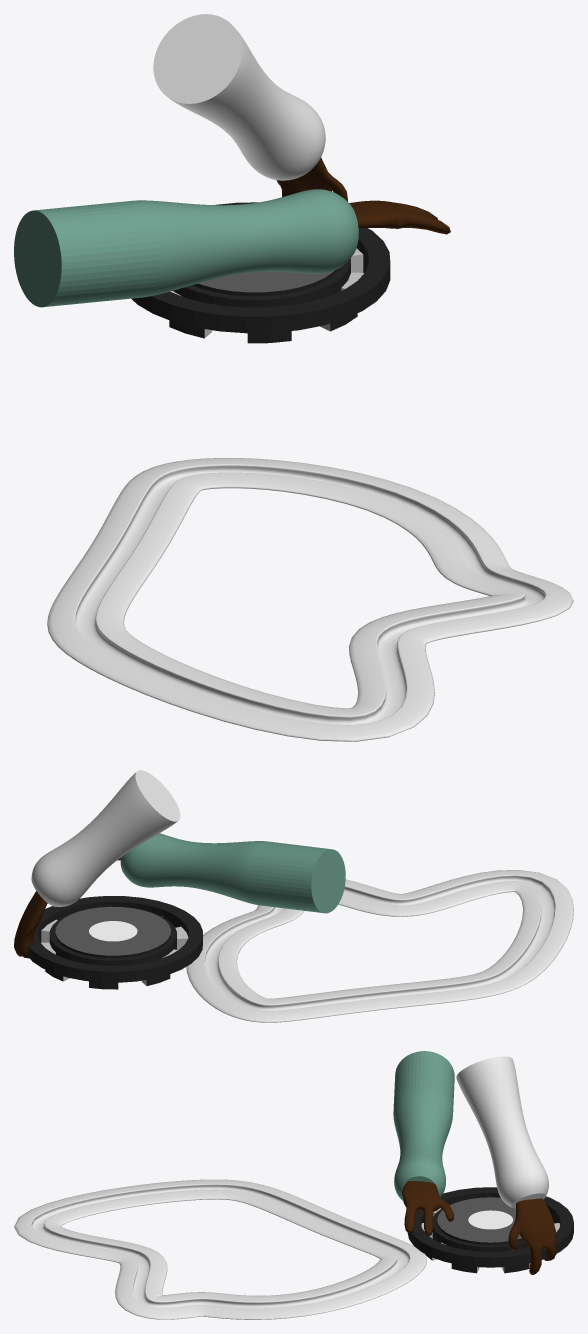
File: hands.fbx
The picture shows the model from 3 angles, top to bottom: view 1: azimuth 30°, elevation 25°; view 2: azimuth 150°, elevation 25°; view 3: azimuth 270°, elevation 25°; orthographic projection. The views are drawn at different scales.
Parts seen in each view (by area): view 1: NurbsCircle, NurbsPath.002, NurbsPath, Volante, R_HAND, l_HAND; view 2: NurbsCircle, Volante, NurbsPath.002, NurbsPath, l_HAND; view 3: NurbsCircle, Volante, NurbsPath, NurbsPath.002, l_HAND, R_HAND.
Boxes of the visible parts, left/top/right/bottom form: NurbsCircle: left=47, top=458, right=573, bottom=741; NurbsPath.002: left=14, top=189, right=358, bottom=307; NurbsPath: left=153, top=14, right=325, bottom=180; Volante: left=131, top=202, right=390, bottom=343; R_HAND: left=349, top=200, right=450, bottom=234; l_HAND: left=276, top=157, right=347, bottom=201; NurbsCircle: left=186, top=870, right=573, bottom=1022; Volante: left=28, top=896, right=202, bottom=989; NurbsPath.002: left=120, top=833, right=345, bottom=913; NurbsPath: left=31, top=770, right=180, bottom=906; l_HAND: left=14, top=891, right=47, bottom=958; NurbsCircle: left=14, top=1179, right=426, bottom=1319; Volante: left=407, top=1187, right=573, bottom=1273; NurbsPath: left=456, top=1056, right=548, bottom=1208; NurbsPath.002: left=393, top=1051, right=454, bottom=1201; l_HAND: left=508, top=1198, right=556, bottom=1274; R_HAND: left=402, top=1181, right=453, bottom=1236.
Bounding box in the file's own units: 1584 × 1103 × 2301.
Materials: 1 (1 with a texture image).
